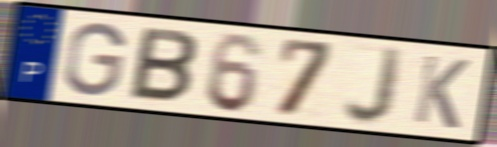6: (202, 29, 267, 115)
7: (276, 35, 338, 120)
B: (126, 24, 200, 106)
G: (60, 21, 129, 99)
J: (340, 44, 407, 128)
K: (410, 52, 473, 132)
